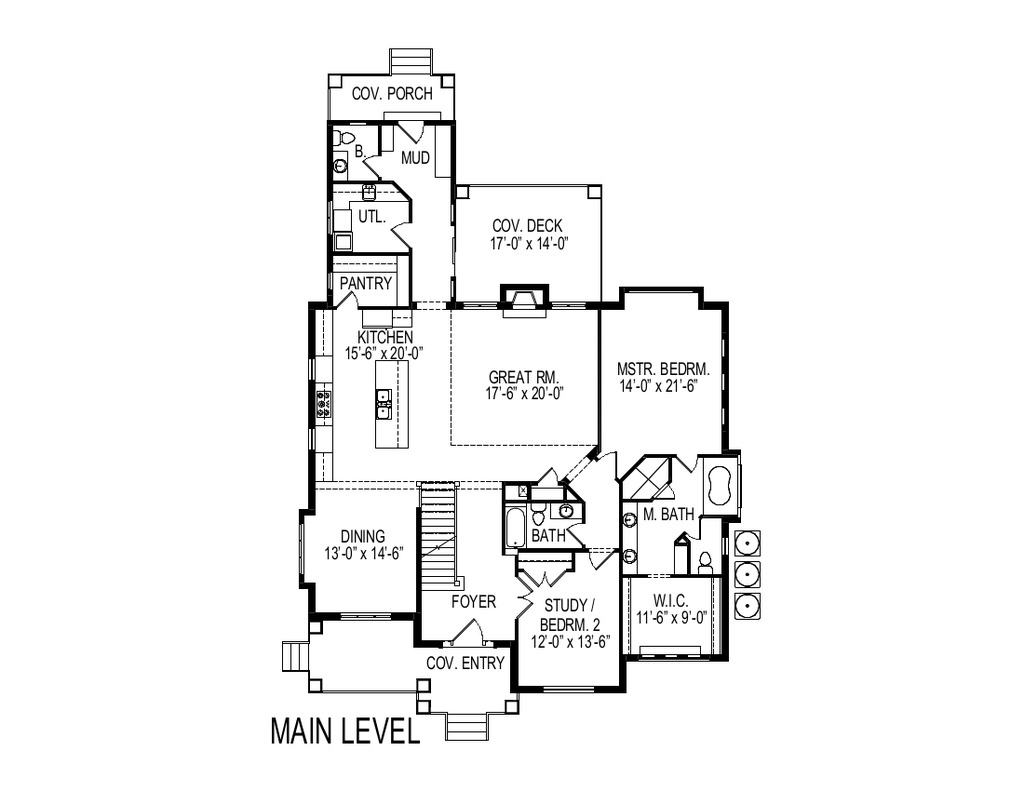door: (437, 614, 499, 653), (505, 575, 552, 621), (387, 103, 430, 153), (516, 565, 572, 589), (360, 150, 394, 187), (580, 544, 617, 576), (530, 464, 572, 491), (562, 516, 593, 549), (594, 447, 624, 481), (389, 219, 415, 253), (330, 291, 370, 310), (682, 511, 706, 542), (674, 448, 696, 478)
kitchen_bar: (360, 346, 415, 455)
large_sink: (329, 121, 362, 153), (700, 542, 718, 580)
small_sink: (623, 507, 641, 571), (332, 148, 361, 180)
stairs: (413, 480, 470, 593)
tub: (700, 452, 738, 520)
twin_sink: (371, 387, 400, 420)
window: (535, 680, 596, 698), (334, 605, 395, 620), (294, 518, 307, 578), (305, 357, 323, 382), (309, 422, 318, 457)
